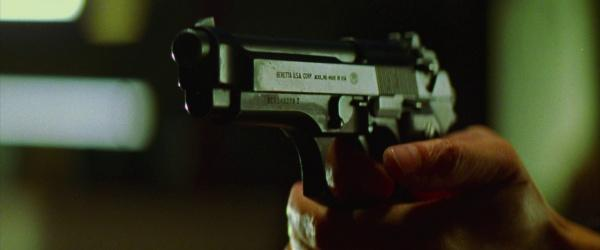Gun: (172, 17, 457, 213)
